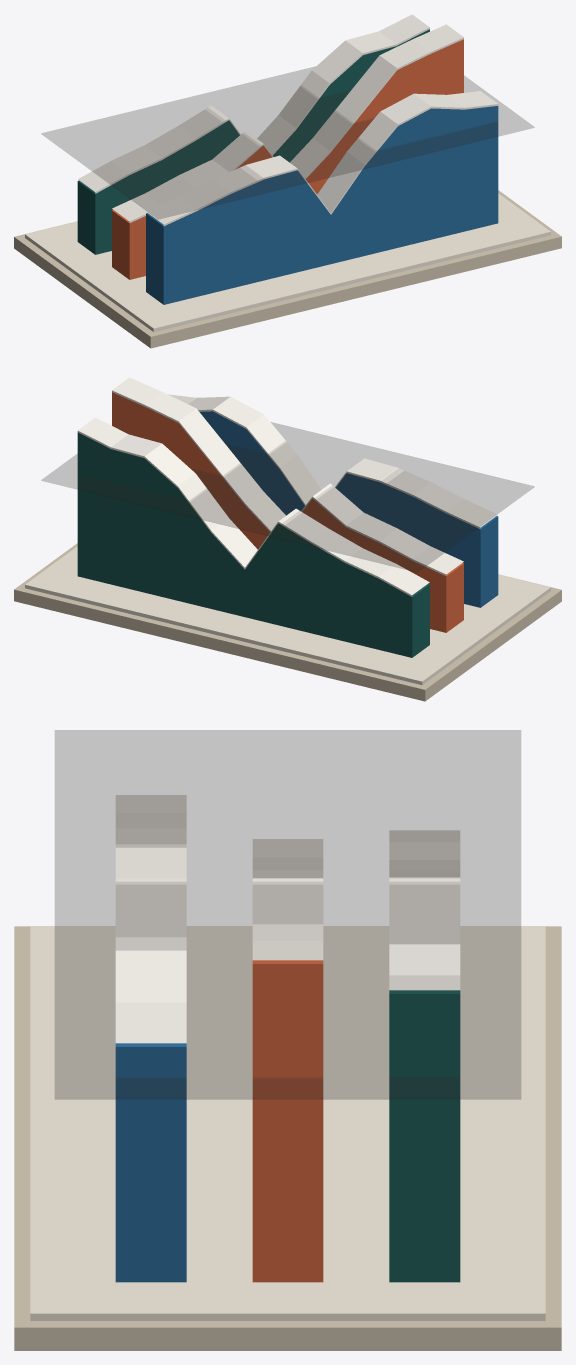
File: escena_3_aeropuertos_cordilleras.glb
3 renders of one model, top to bottom at view 1: azimuth 30°, elevation 25°; view 2: azimuth 150°, elevation 25°; view 3: azimuth 270°, elevation 25°, orthographic. The views are drawn at different scales.
Size of the model in its own units: 1.18 by 0.4845 by 0.68.
